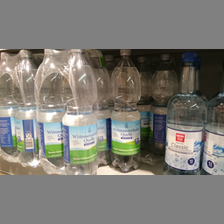water: (163, 53, 205, 174), (61, 49, 97, 174), (106, 49, 142, 173), (34, 50, 67, 174), (12, 51, 39, 165)
